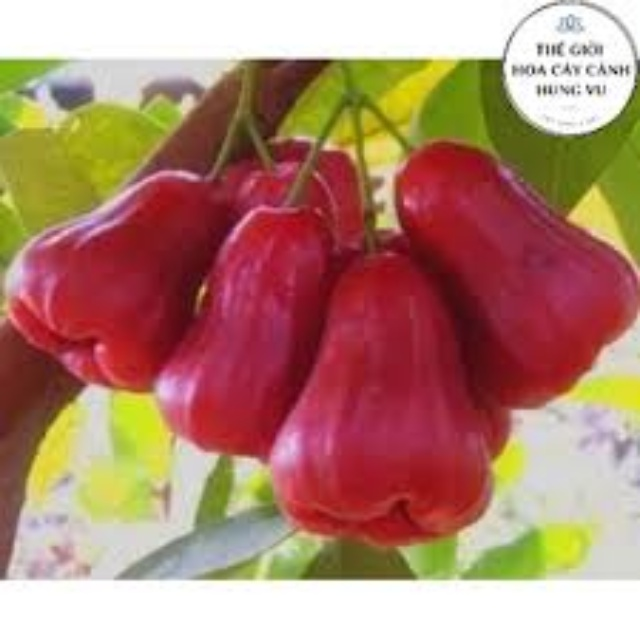xoai: (369, 132, 640, 408), (260, 234, 495, 543), (163, 198, 335, 465), (11, 154, 200, 392)
